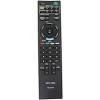remote control: (32, 0, 68, 100)
